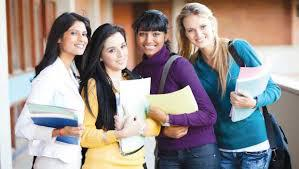Person: (178, 2, 262, 141), (131, 3, 196, 155), (30, 18, 87, 169), (90, 30, 146, 162)
